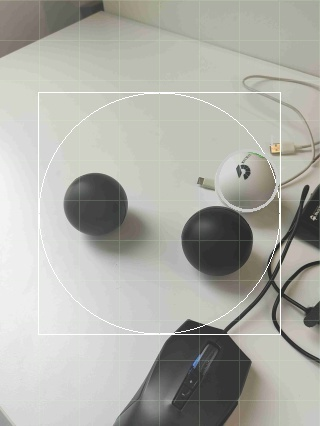Pelota blanca: (0, 0, 105, 57), (276, 260, 320, 357), (215, 148, 278, 214)
Pelota negra: (114, 321, 252, 425), (181, 204, 254, 278), (63, 172, 129, 238)
